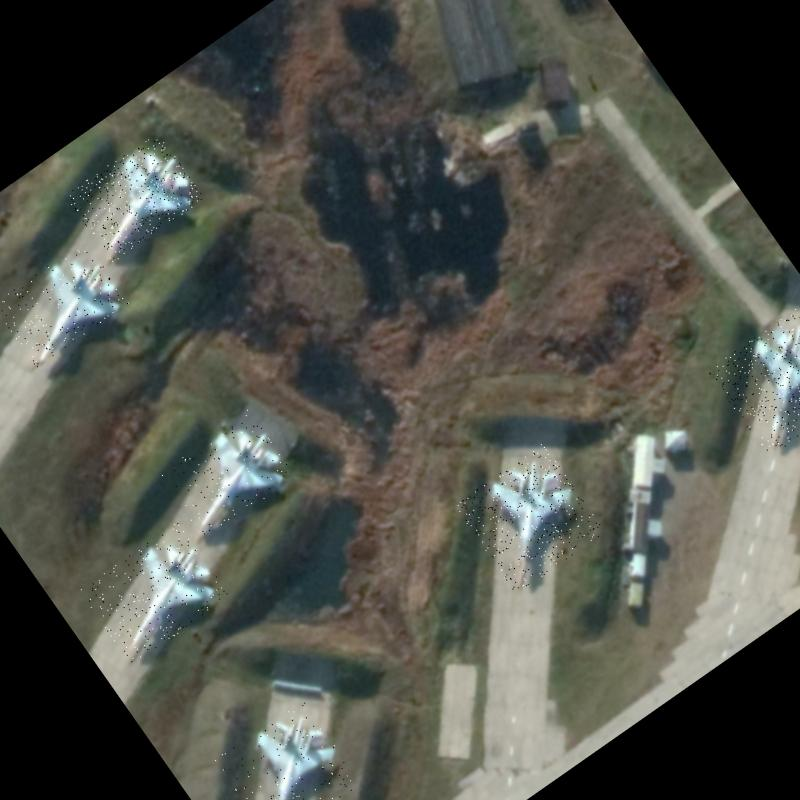A1: (454, 442, 606, 594), (78, 520, 232, 666), (65, 130, 205, 263), (158, 408, 296, 540), (0, 239, 129, 367), (212, 697, 363, 800), (708, 307, 800, 458)
